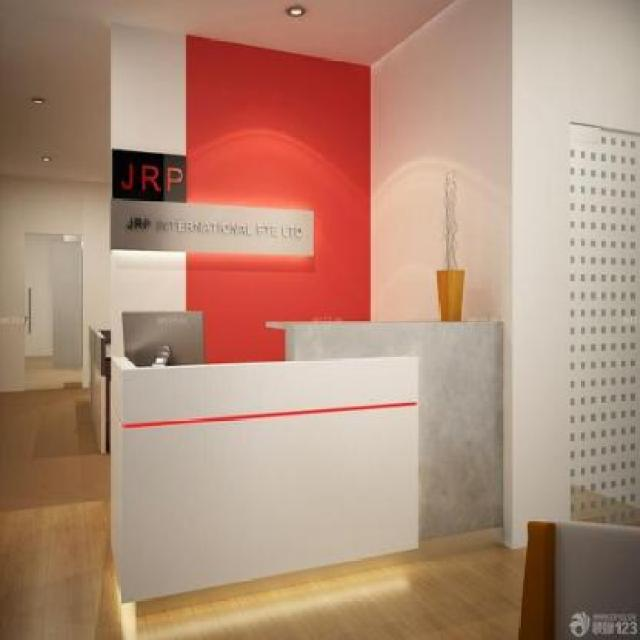frontdesk: (90, 302, 516, 616)
